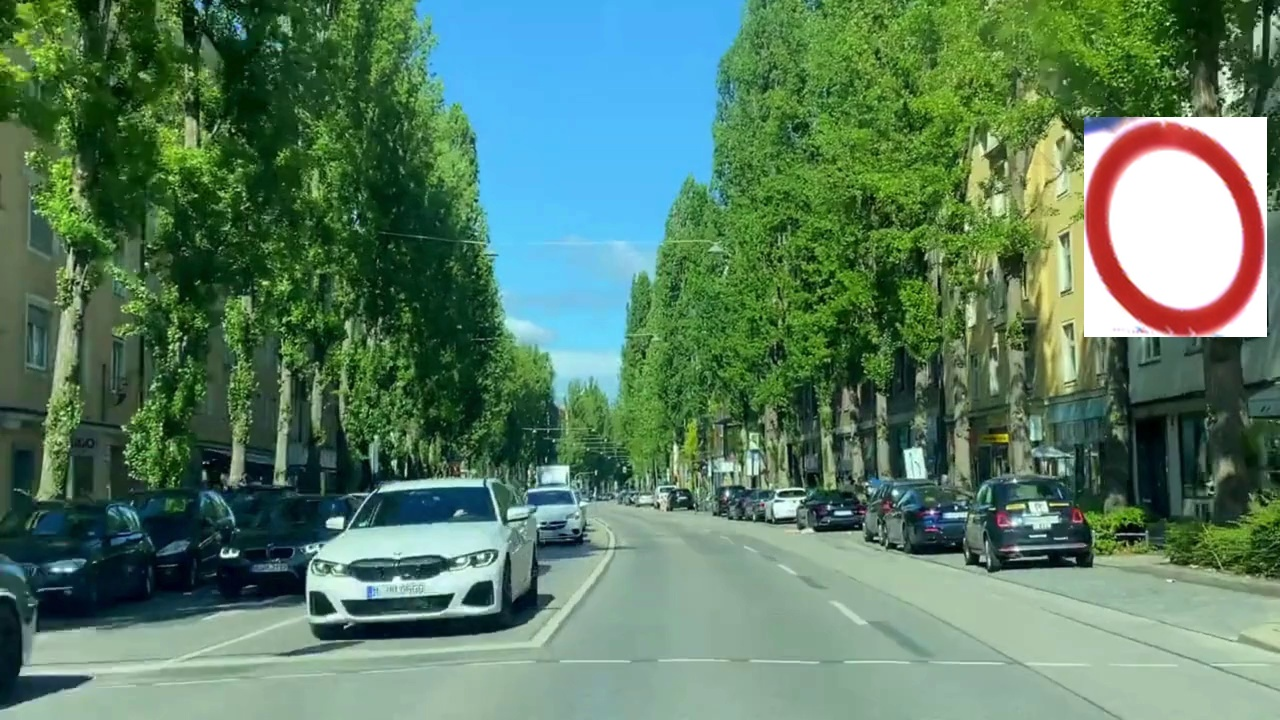No vehicles: (1084, 117, 1267, 337)
